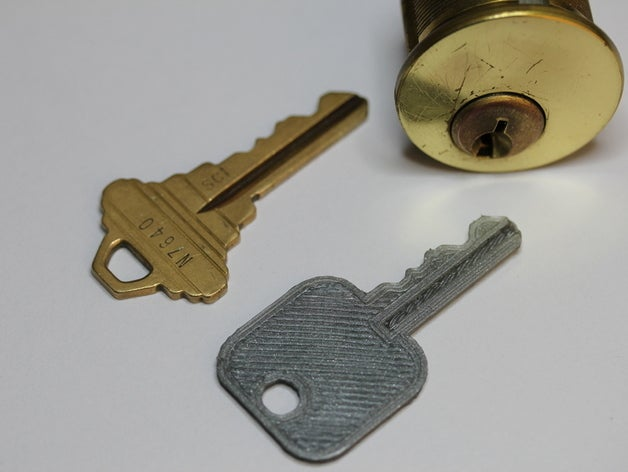key: (211, 212, 526, 464), (93, 86, 375, 306)
